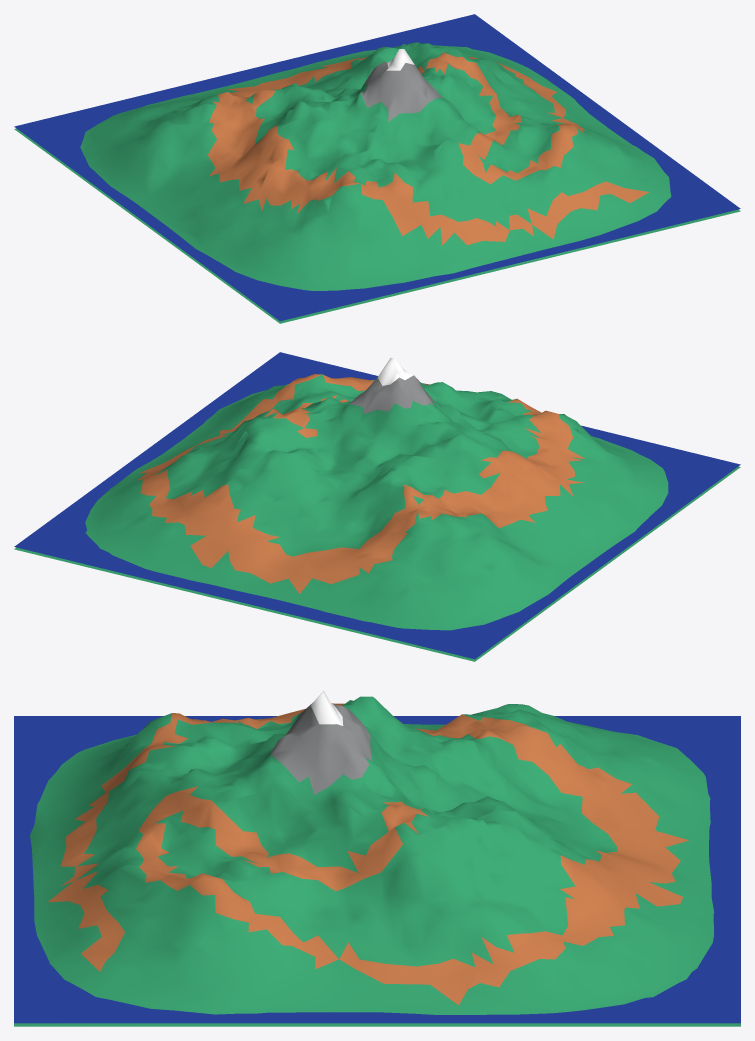
The model's file is small.dae.
3 renders of one model, top to bottom at view 1: azimuth 30°, elevation 25°; view 2: azimuth 150°, elevation 25°; view 3: azimuth 270°, elevation 25°, orthographic. The views are drawn at different scales.
Visible parts, largest first — view 1: Land, Water; view 2: Land, Water; view 3: Land, Water.
Boxes of the visible parts, box(x1,y1,x2,y2) form: Land: box(14, 42, 740, 323); Water: box(14, 14, 740, 321); Land: box(14, 358, 740, 661); Water: box(14, 352, 740, 659); Land: box(14, 690, 740, 1026); Water: box(14, 716, 740, 1023).
Bounding box in the file's own units: 500 × 500 × 140.
1 material, 1 textured.
